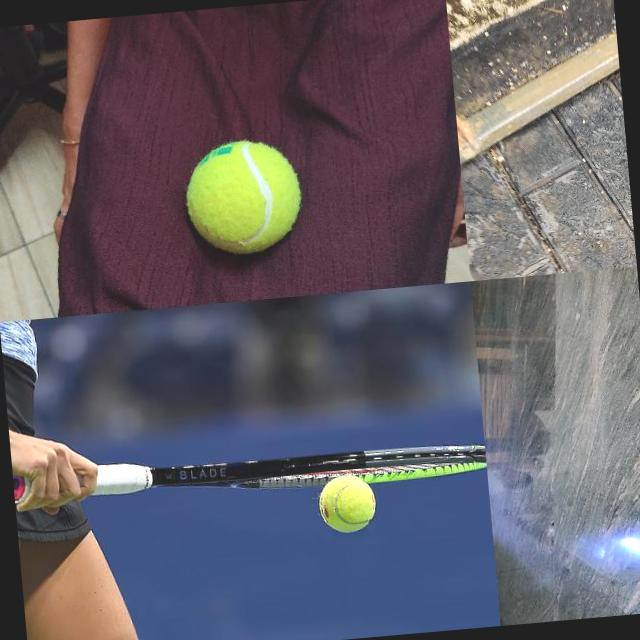Tennis Ball: (182, 136, 304, 256), (314, 471, 378, 536)
